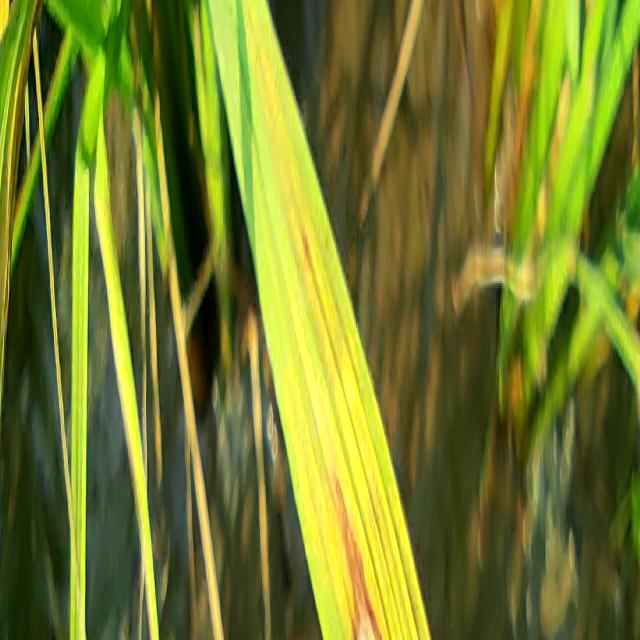LEAF BLAST: (333, 474, 384, 640)
